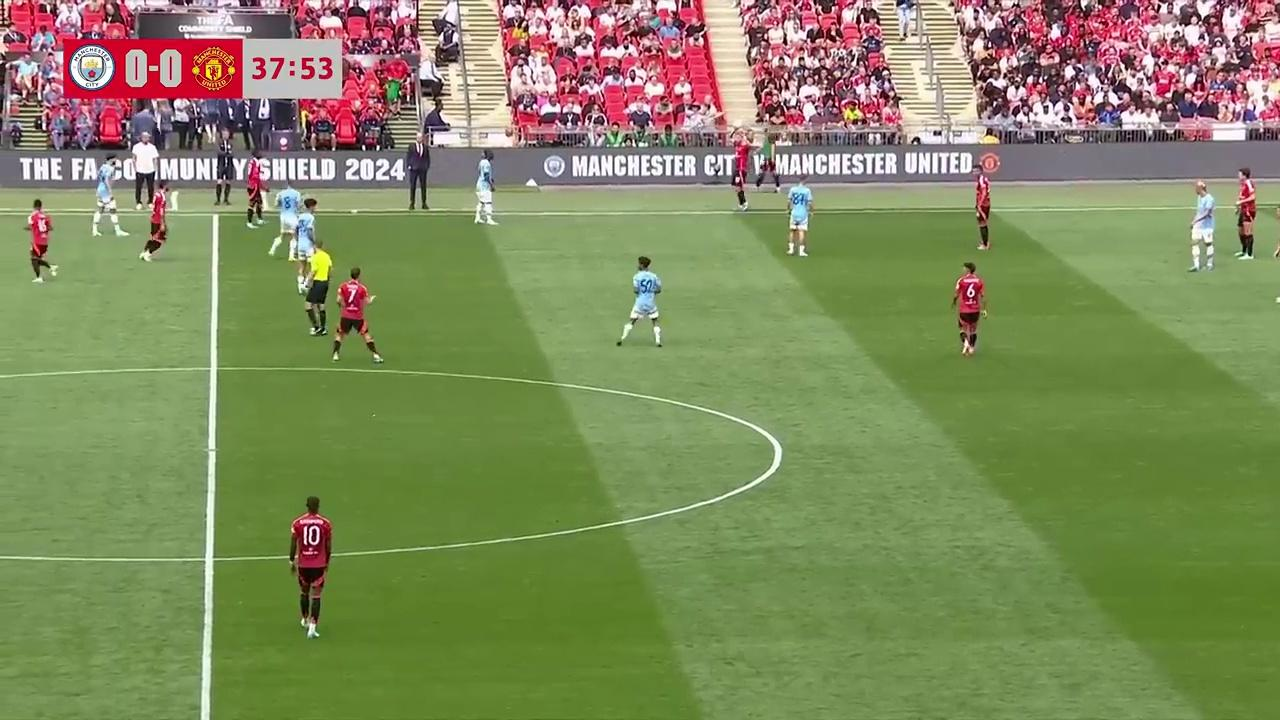player: (289, 496, 333, 640), (330, 268, 383, 363), (617, 256, 663, 348), (951, 261, 988, 355), (92, 161, 127, 236), (25, 199, 56, 282), (140, 185, 169, 262), (1234, 168, 1258, 260), (786, 179, 814, 256), (267, 186, 296, 258), (1191, 183, 1214, 271), (288, 205, 318, 267), (473, 151, 497, 225), (245, 160, 265, 227), (975, 175, 991, 250), (732, 149, 749, 211)
referee: (299, 240, 332, 335)
